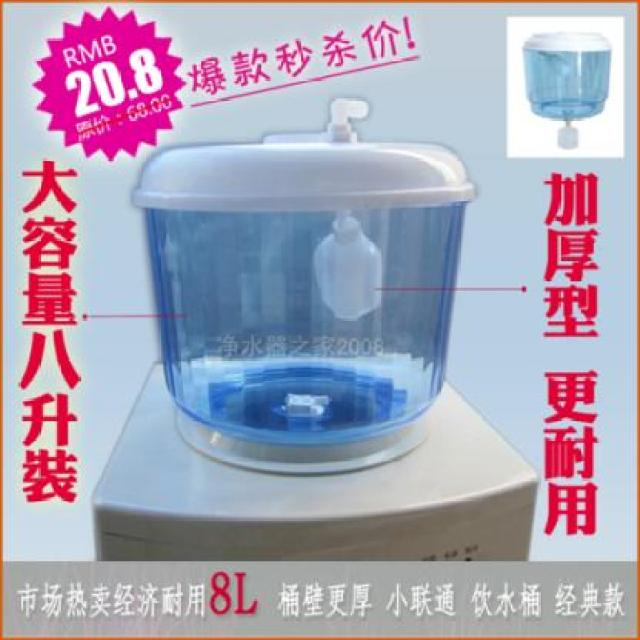coolerbottle: (129, 136, 481, 450)
